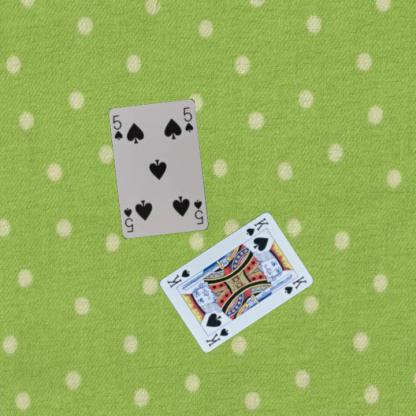5s: (110, 112, 124, 142), (191, 197, 205, 226)
Ks: (203, 325, 229, 348), (244, 215, 270, 237)
